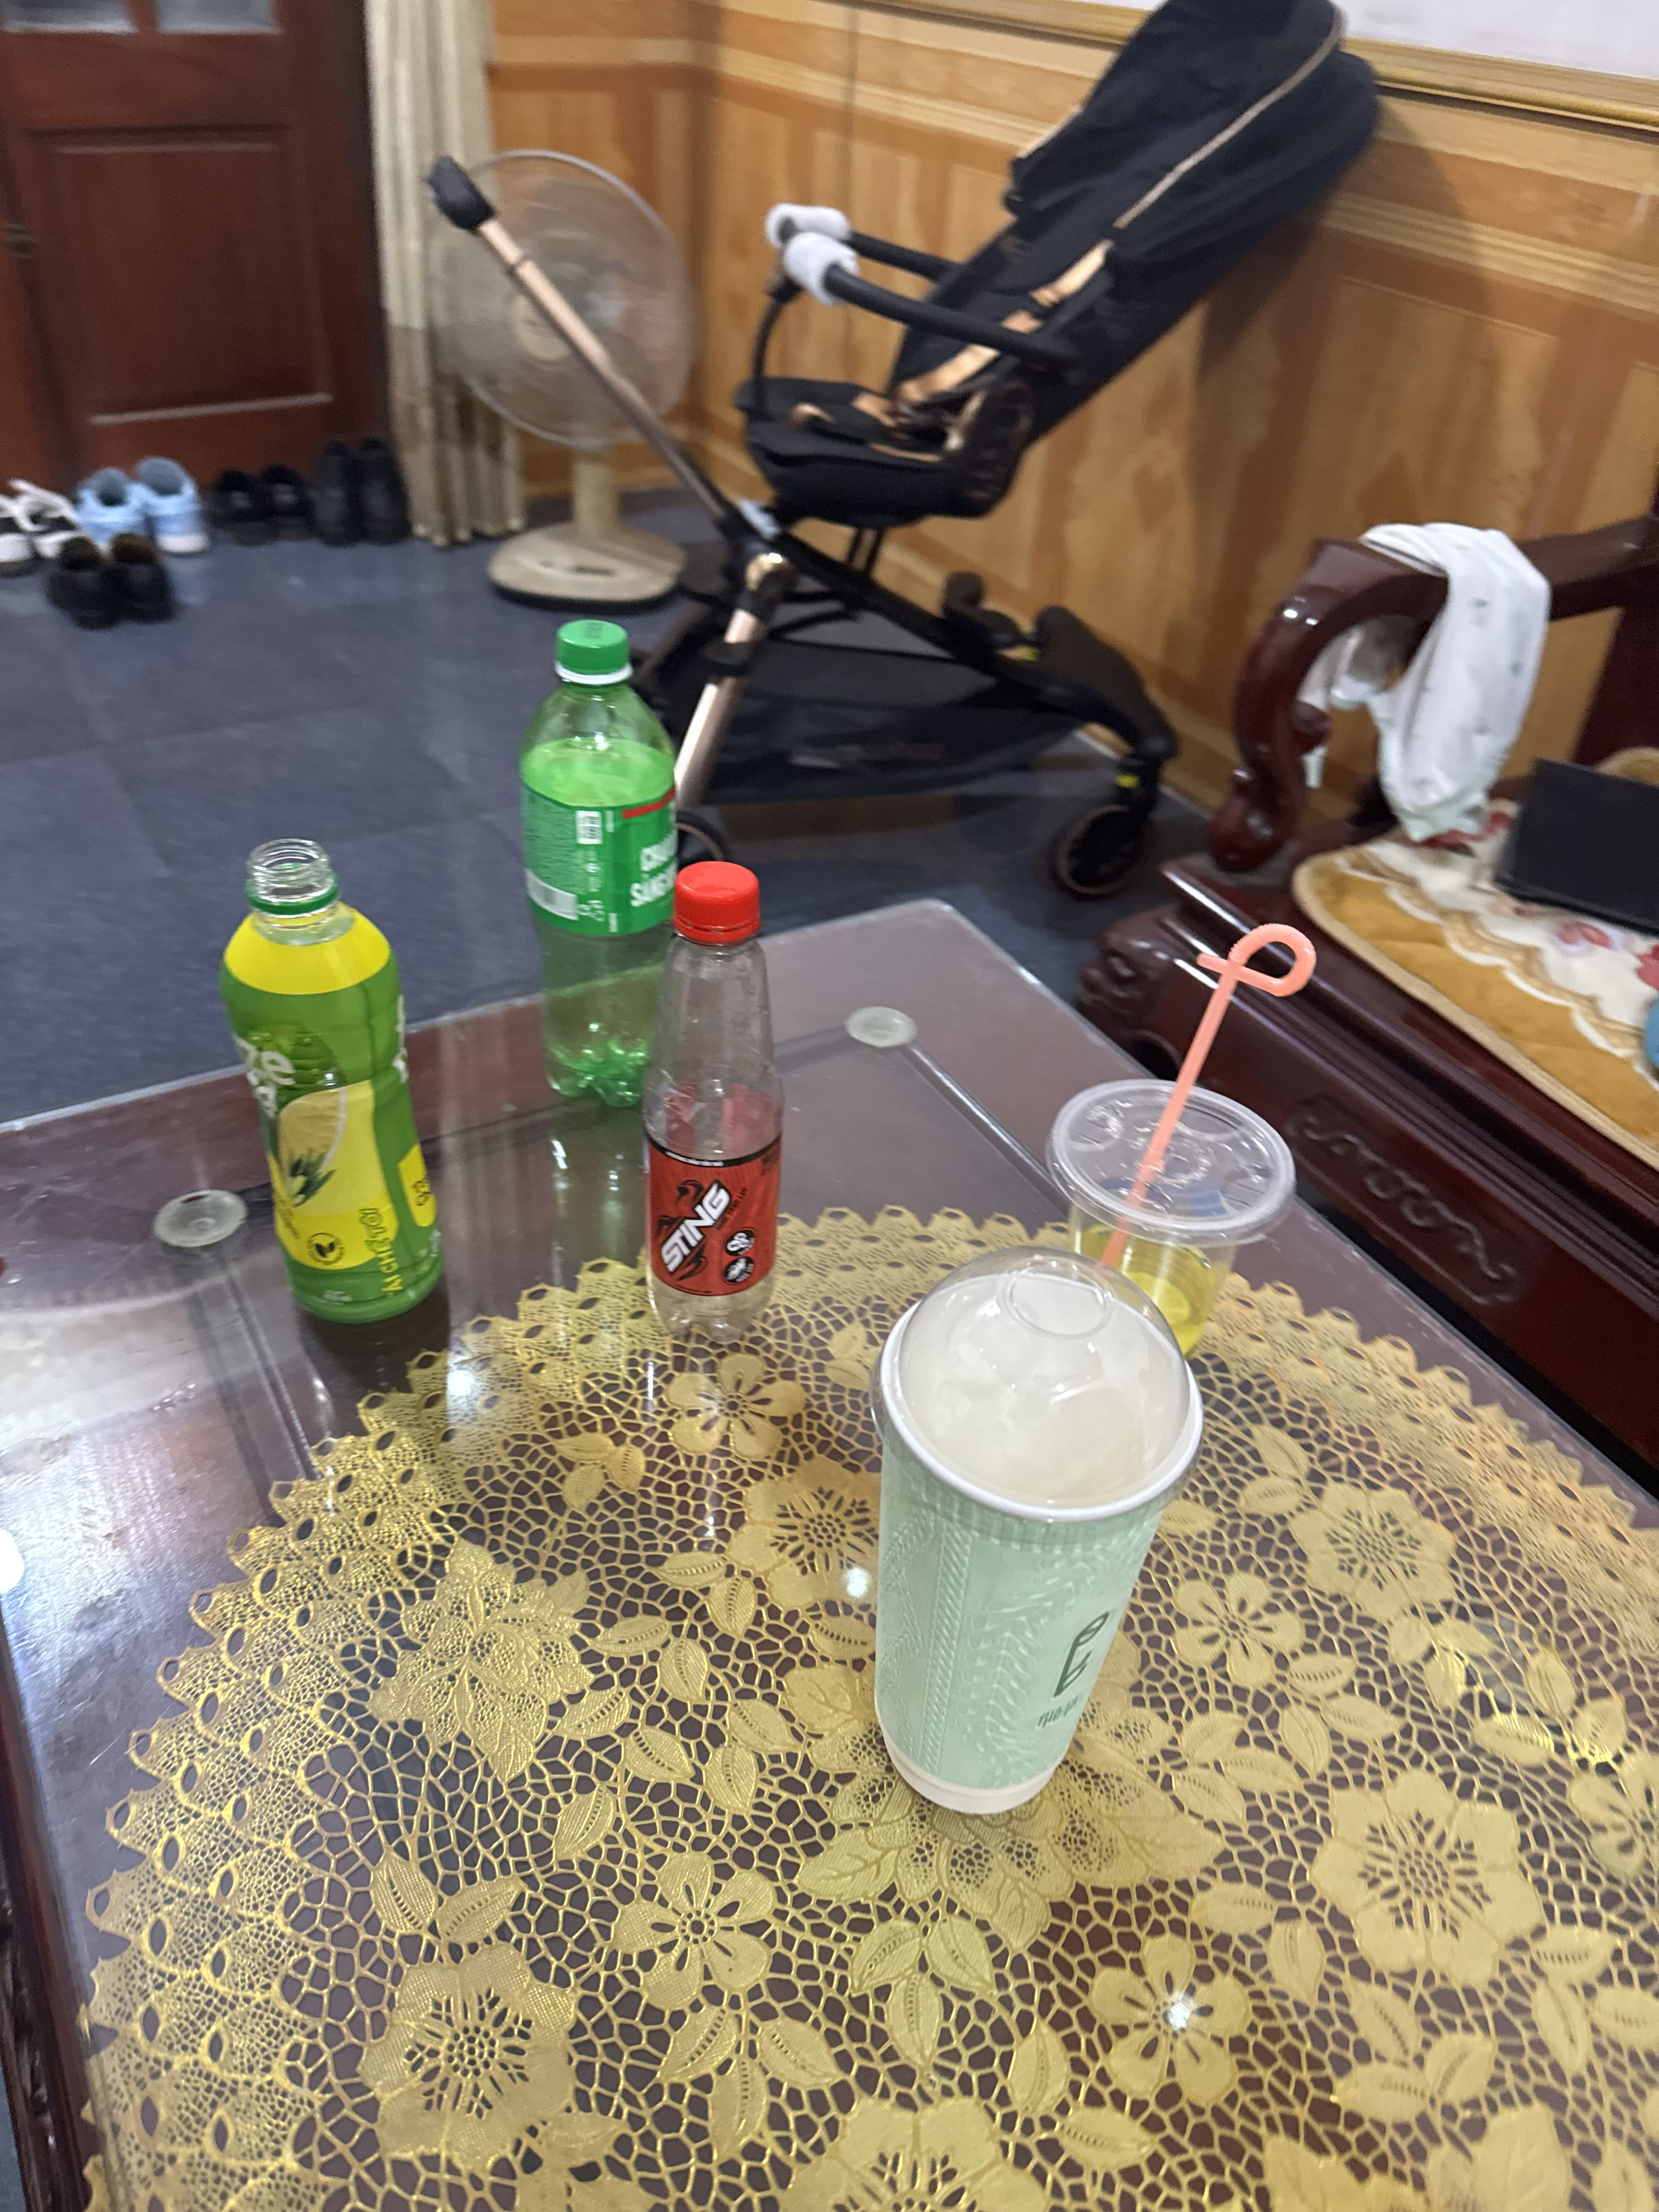2: (854, 1226, 1216, 1879), (1032, 1047, 1349, 1318)
bottle: (181, 810, 505, 1338), (493, 592, 699, 1113), (629, 853, 812, 1355)
